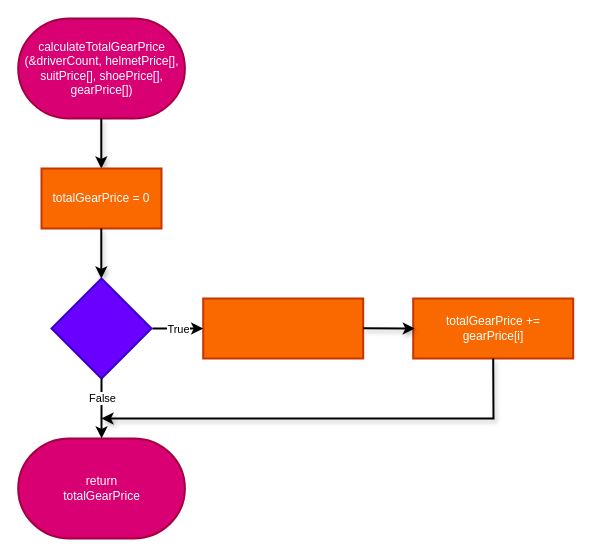
The diagram is 591 pixels wide and 556 high, and some of its shapes have lost their labels. The shapes that lost their labels are listed below. From the top down, each one's centre as x and y in pixels, then its label:
the point at 101,328: i = 0, i < driverCount, i++
the point at 283,328: gearPrice[i] = helmetPrice[i] + suitPrice[i] + shoePrice[i]
